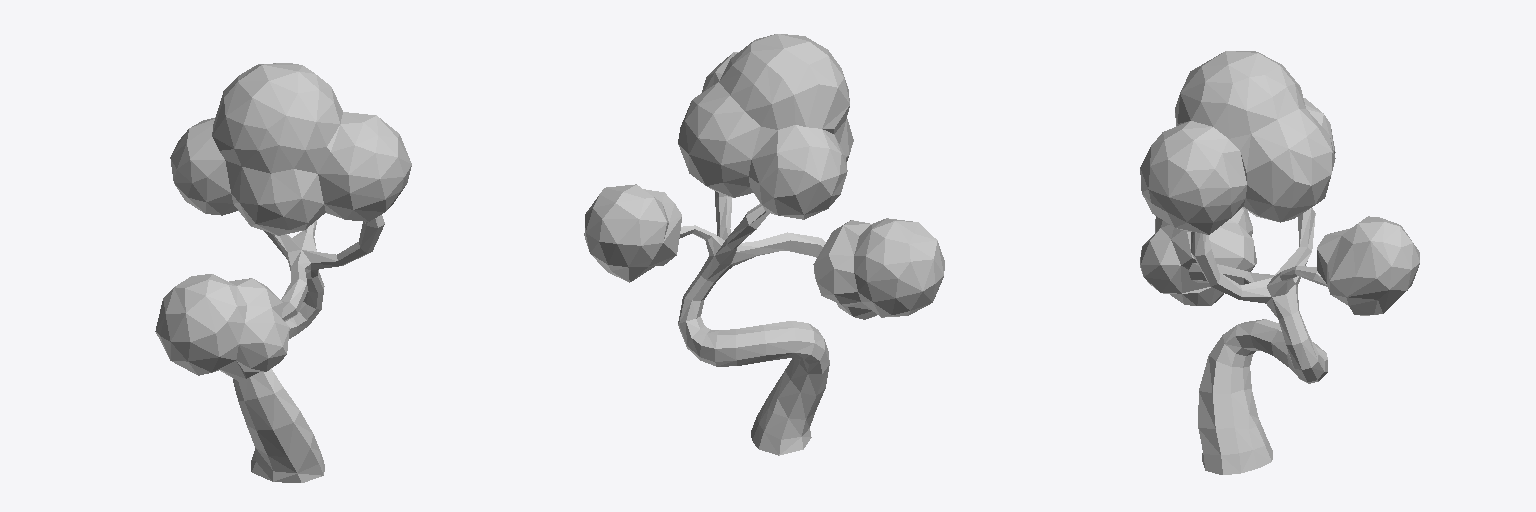
Rendered from tree5.obj.
3 views of the same model, side by side, from view 1: azimuth 30°, elevation 25°; view 2: azimuth 150°, elevation 25°; view 3: azimuth 270°, elevation 25° (orthographic).
Visible parts, largest first — view 1: LowPoly_Tree_06_lowpoly_tree_02_Mesh.005; view 2: LowPoly_Tree_06_lowpoly_tree_02_Mesh.005; view 3: LowPoly_Tree_06_lowpoly_tree_02_Mesh.005.
Part boxes in pixels (x1,y1,x2,y2): LowPoly_Tree_06_lowpoly_tree_02_Mesh.005: (155, 63, 411, 482); LowPoly_Tree_06_lowpoly_tree_02_Mesh.005: (584, 34, 944, 455); LowPoly_Tree_06_lowpoly_tree_02_Mesh.005: (1140, 51, 1419, 474).
Size of the model in its own units: 2.55 by 3.72 by 2.36.